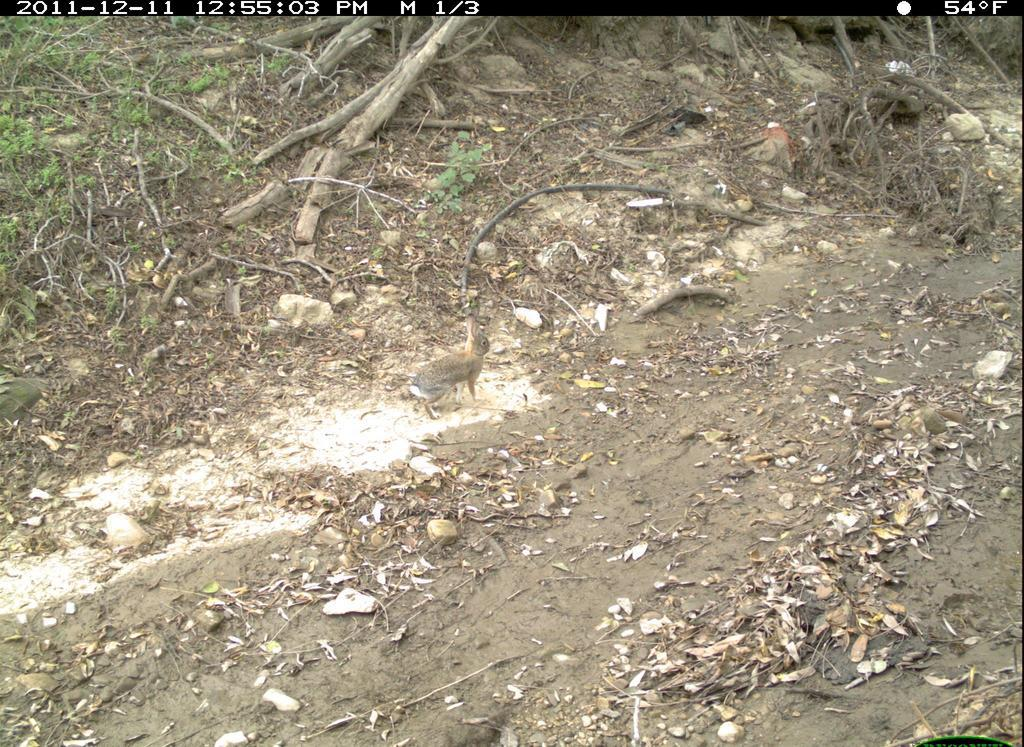rabbit: (399, 313, 492, 424)
